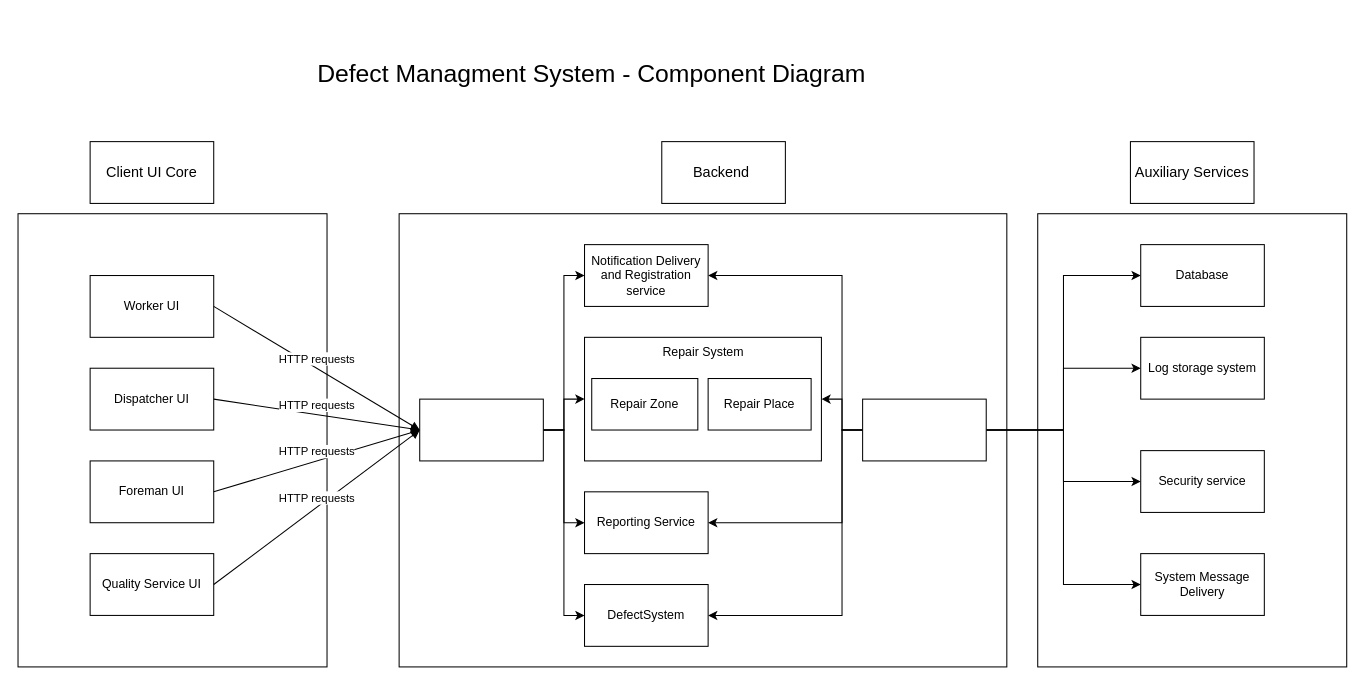
The diagram is 1365 pixels wide and 685 high, and some of its shapes have lost their labels. The shapes that lost their labels are listed below. From the top down, each one's box as (x1, y1, x2, y2) in pixels, then its label:
(419, 398, 543, 461): External API Interface
(862, 398, 986, 461): Control Core
